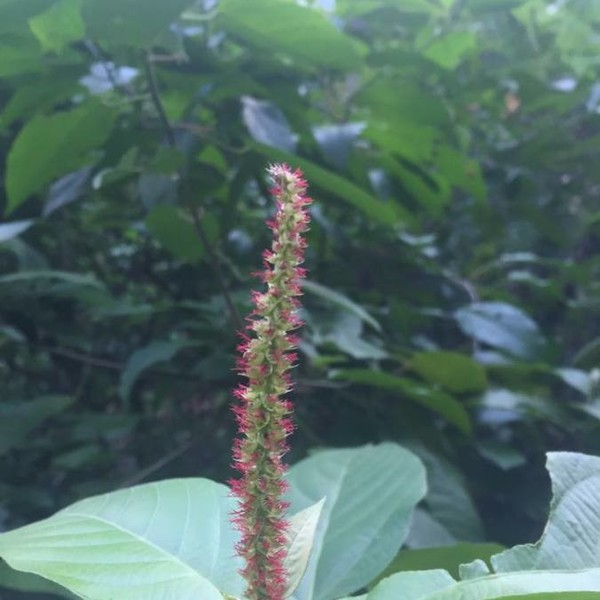obstacle: (20, 443, 439, 582), (230, 138, 320, 591)
